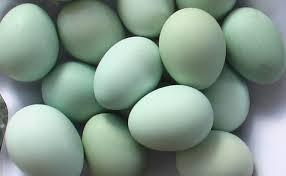egg: (126, 84, 216, 154), (4, 101, 86, 176), (219, 0, 285, 86), (92, 34, 162, 114), (159, 7, 228, 88), (0, 2, 60, 85), (58, 0, 126, 63), (84, 111, 144, 176), (176, 130, 256, 176), (40, 58, 104, 114), (120, 0, 178, 35)
